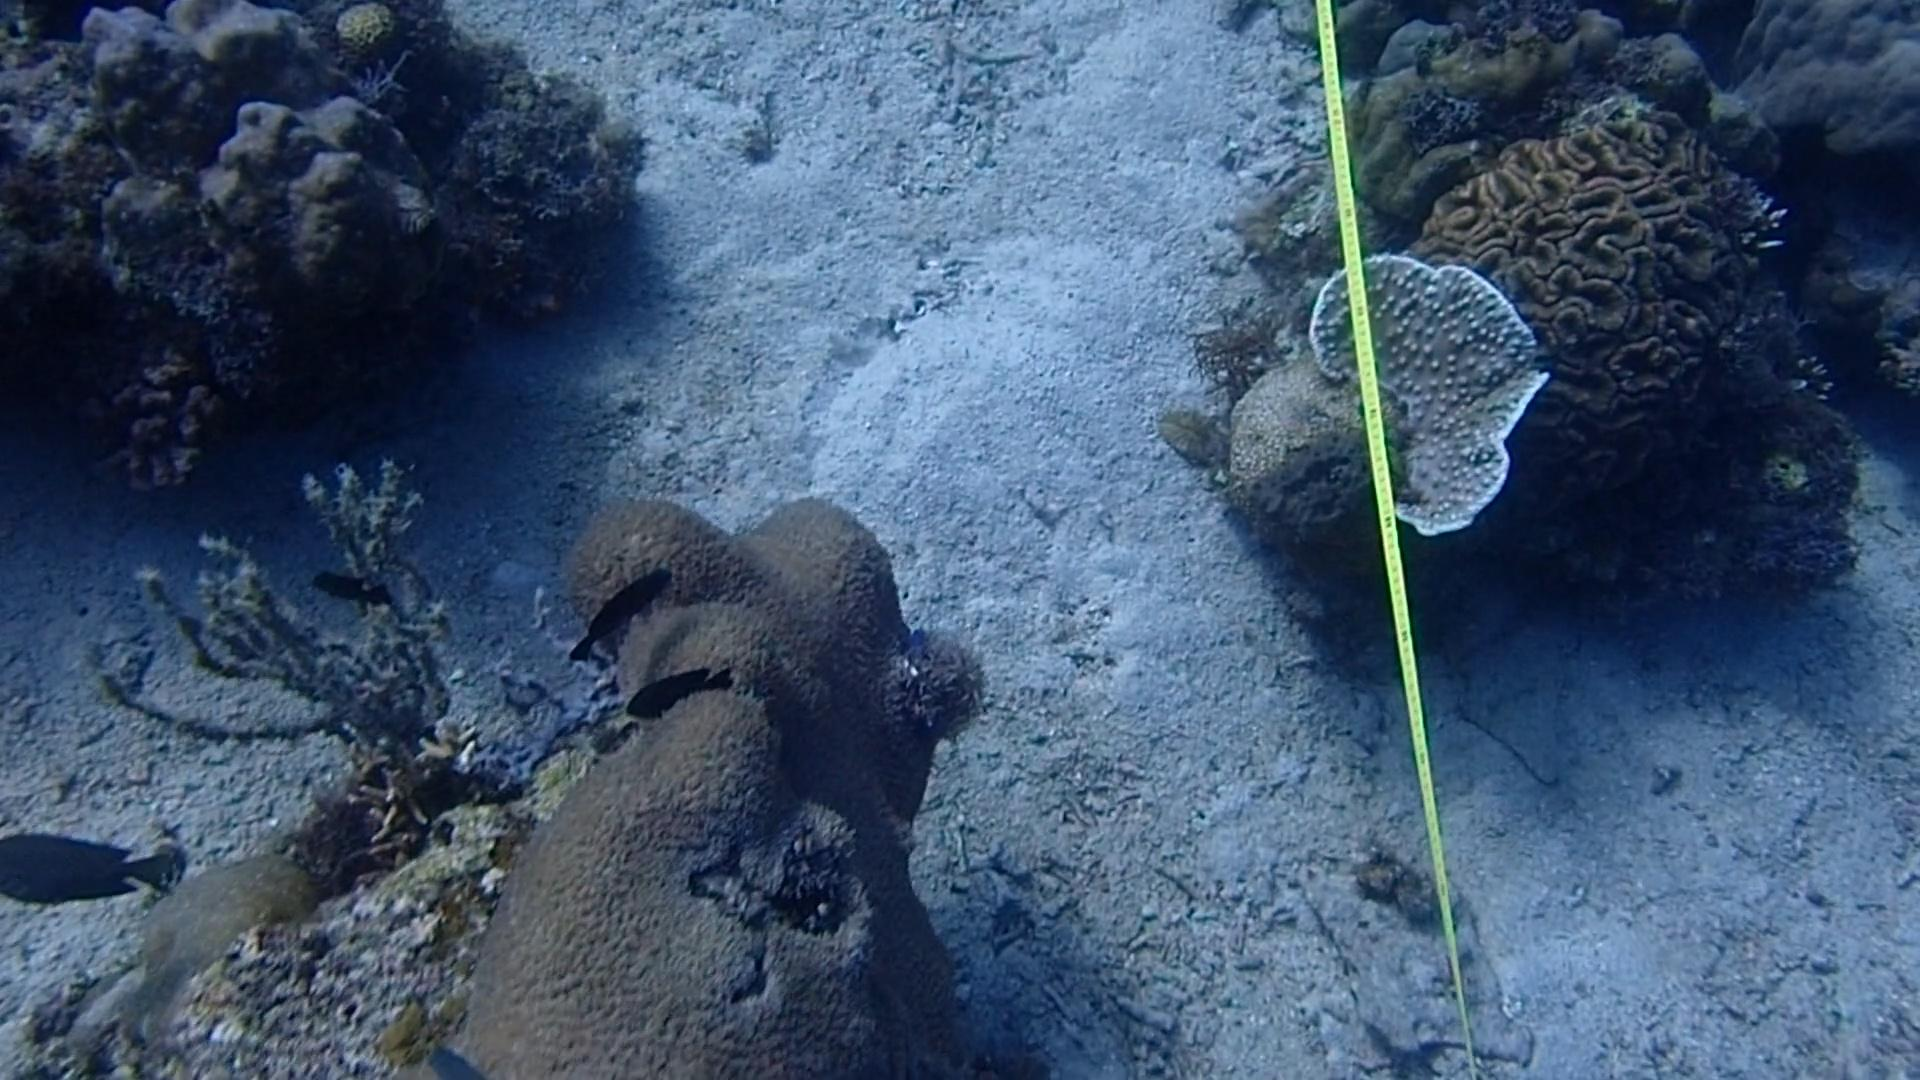Big Dark Blue Fish: (0, 818, 179, 913)
Dark Fish: (563, 542, 666, 651), (609, 650, 741, 723), (295, 559, 386, 613)
